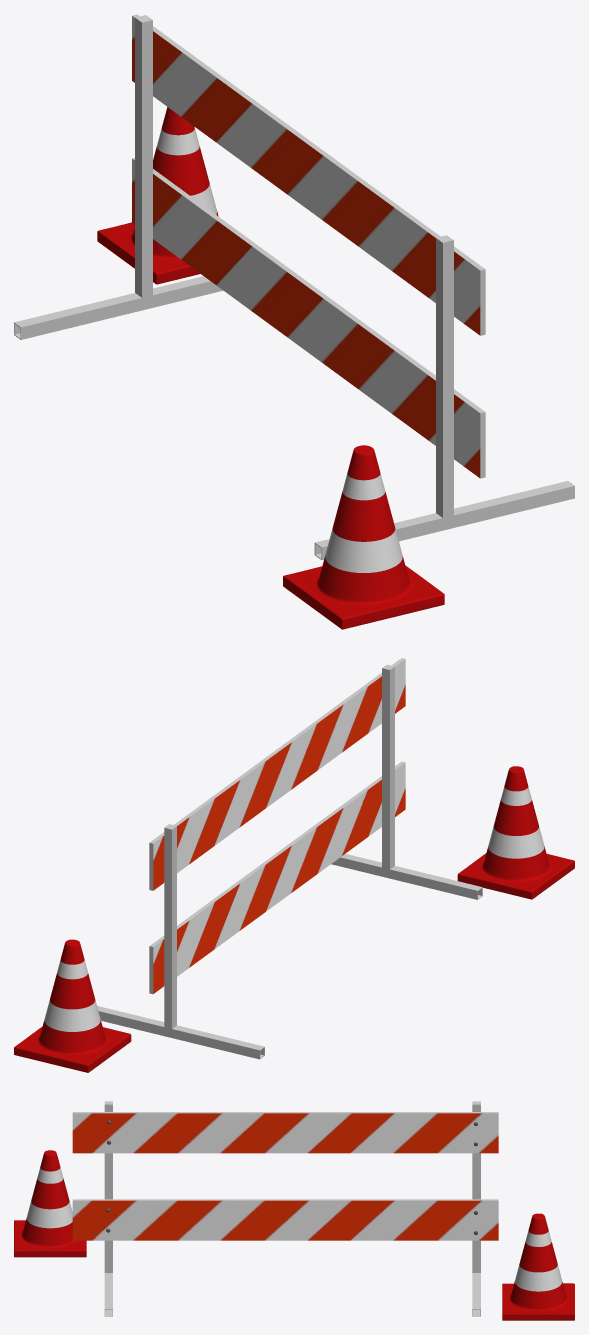
File: street-under-construction.fbx
The picture shows the model from 3 angles, top to bottom: view 1: azimuth 30°, elevation 25°; view 2: azimuth 150°, elevation 25°; view 3: azimuth 270°, elevation 25°; orthographic projection. The views are drawn at different scales.
Parts seen in each view (by area): view 1: Cube.005, Cube.002, Cube, Cube.004, Cube.003, Cube.001; view 2: Cube.005, Cube.002, Cube.001, Cube, Cube.004, Cube.003; view 3: Cube.002, Cube.005, Cube.001, Cube, Cube.004, Cube.003.
Part boxes in pixels (x1=…): Cube.005: x1=132, y1=14, x2=485, y2=335; Cube.002: x1=132, y1=158, x2=485, y2=478; Cube: x1=283, y1=445, x2=444, y2=629; Cube.004: x1=14, y1=15, x2=222, y2=339; Cube.003: x1=314, y1=235, x2=574, y2=559; Cube.001: x1=97, y1=107, x2=218, y2=284; Cube.005: x1=149, y1=658, x2=405, y2=890; Cube.002: x1=149, y1=761, x2=405, y2=994; Cube.001: x1=14, y1=939, x2=131, y2=1072; Cube: x1=457, y1=766, x2=574, y2=899; Cube.004: x1=97, y1=824, x2=264, y2=1059; Cube.003: x1=331, y1=664, x2=482, y2=899; Cube.002: x1=72, y1=1199, x2=498, y2=1240; Cube.005: x1=72, y1=1112, x2=498, y2=1153; Cube.001: x1=502, y1=1213, x2=574, y2=1320; Cube: x1=14, y1=1150, x2=86, y2=1257; Cube.004: x1=472, y1=1101, x2=480, y2=1316; Cube.003: x1=104, y1=1101, x2=112, y2=1316.
Size of the model in its own units: 133 by 116 by 333.
Materials: 5 (1 with a texture image).
